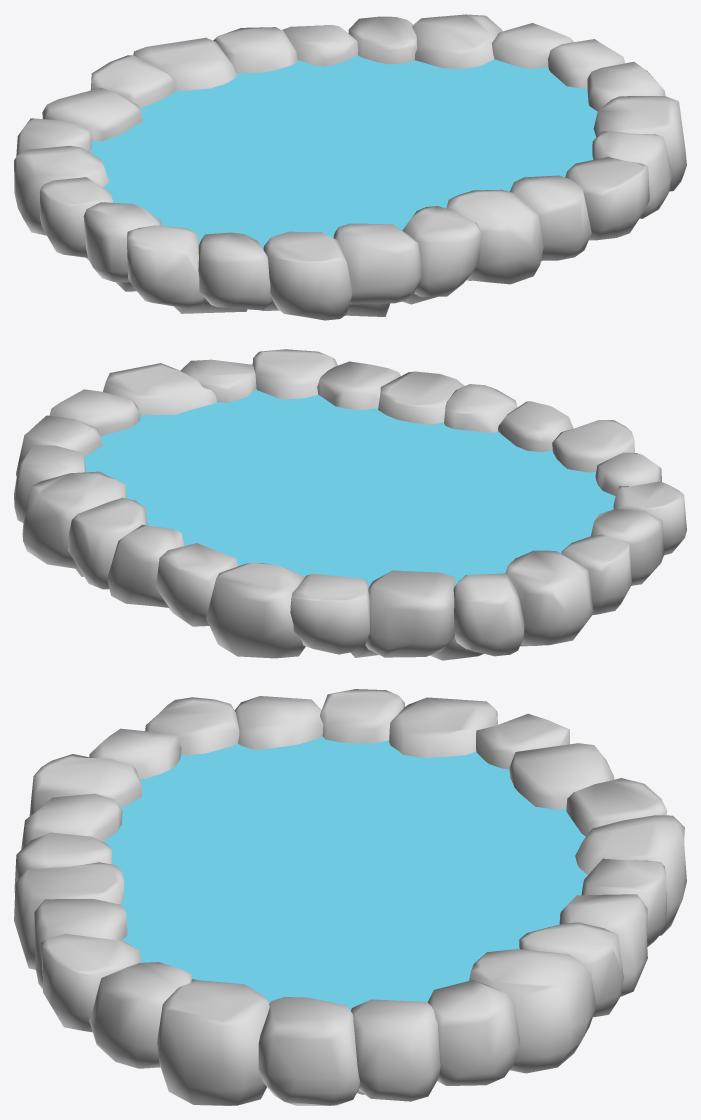
File: RockMiddle.fbx
3 views of the same model, one above another, from view 1: azimuth 30°, elevation 25°; view 2: azimuth 150°, elevation 25°; view 3: azimuth 270°, elevation 25° (orthographic). The views are drawn at different scales.
Parts seen in each view (by area): view 1: fishing_pond_rock_middle; view 2: fishing_pond_rock_middle; view 3: fishing_pond_rock_middle.
Part boxes in pixels (<box>): fishing_pond_rock_middle: <box>14,14,686,320</box>; fishing_pond_rock_middle: <box>14,349,686,660</box>; fishing_pond_rock_middle: <box>14,689,686,1105</box>.
Bounding box in the file's own units: 568 × 80.66 × 464.
